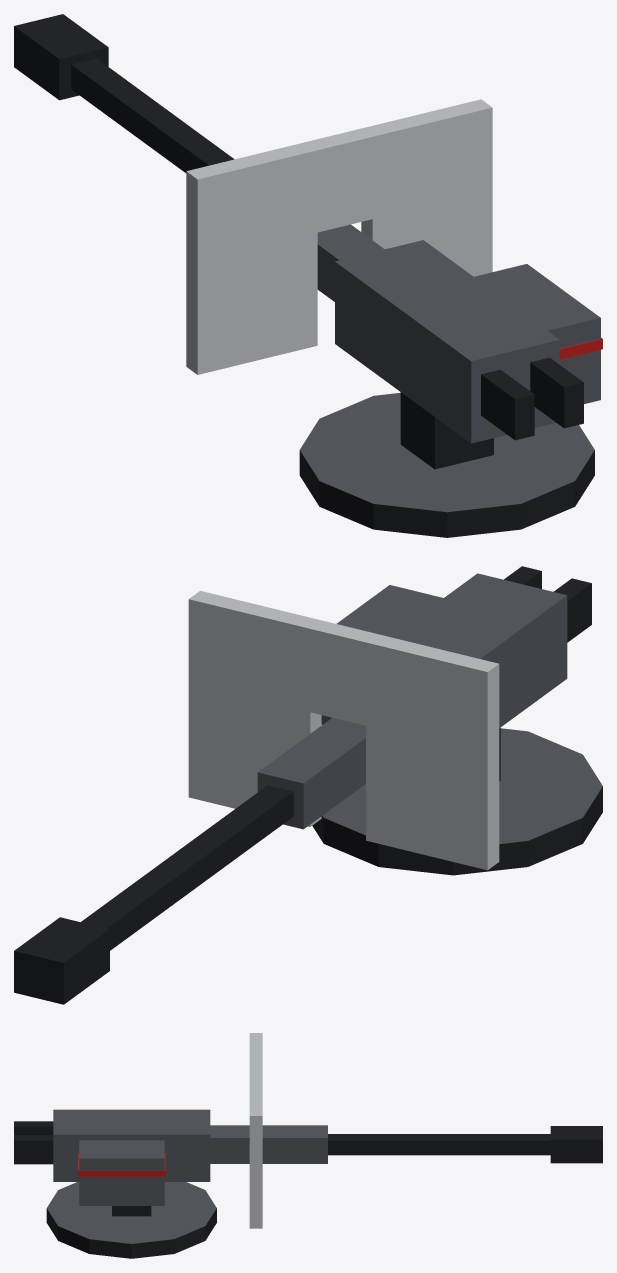
The model's file is Vehicles_CybertruckTurret.fbx.
3 views of the same model, one above another, from view 1: azimuth 30°, elevation 25°; view 2: azimuth 150°, elevation 25°; view 3: azimuth 270°, elevation 25° (orthographic). The views are drawn at different scales.
Visible parts, largest first — view 1: Vehicles_CybertruckTurret; view 2: Vehicles_CybertruckTurret; view 3: Vehicles_CybertruckTurret.
Boxes of the visible parts, x1,y1,x2,y2 form: Vehicles_CybertruckTurret: (14,14,602,537); Vehicles_CybertruckTurret: (14,566,602,1004); Vehicles_CybertruckTurret: (14,1033,602,1258).
Bounding box in the file's own units: 30 × 25 × 90.
